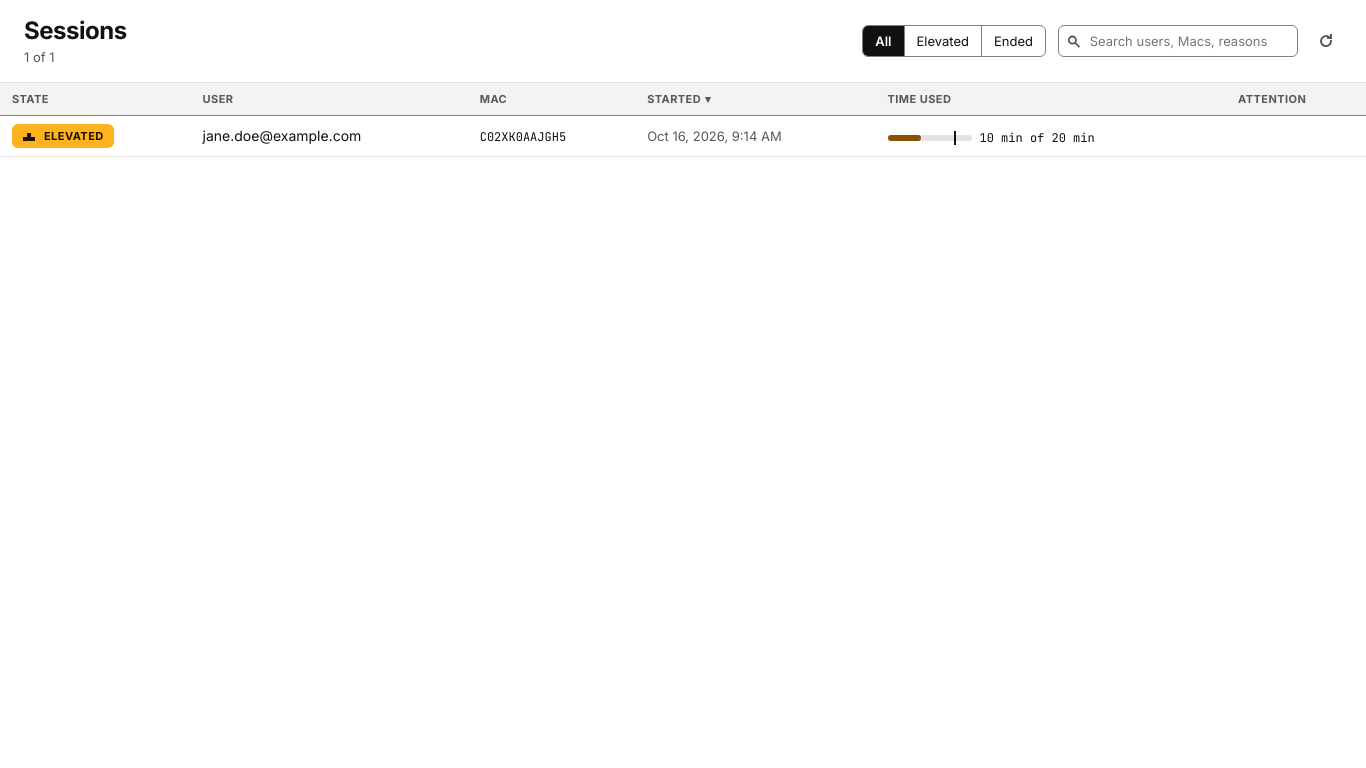
Test: Sessions › reports what the Mac did with the revoke ({"status":"completed","revoked":["jdoe"]})
Click the text "jane.doe@example.com" at (282,136), box 202,127 -> 361,144
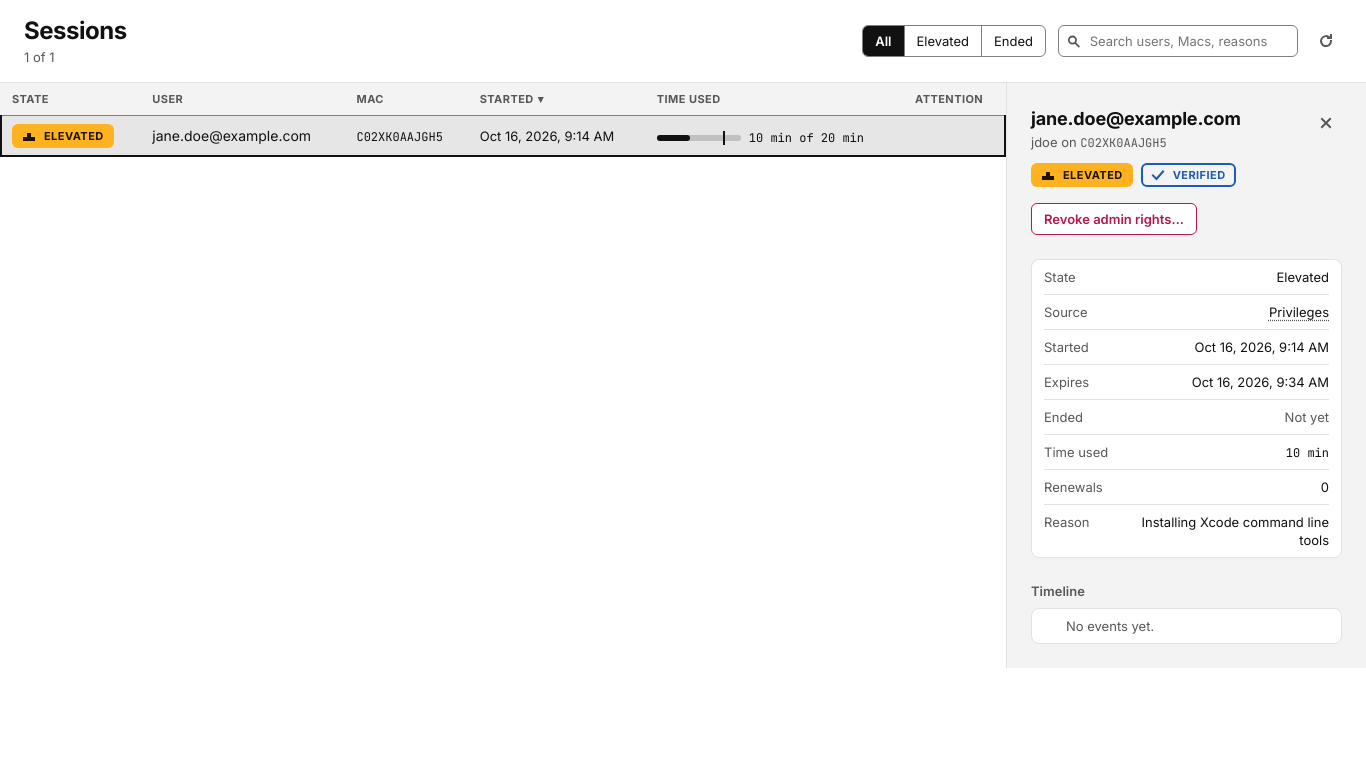
Click the button "Revoke admin rights…" at (1114,219), box 1031,203 -> 1197,235
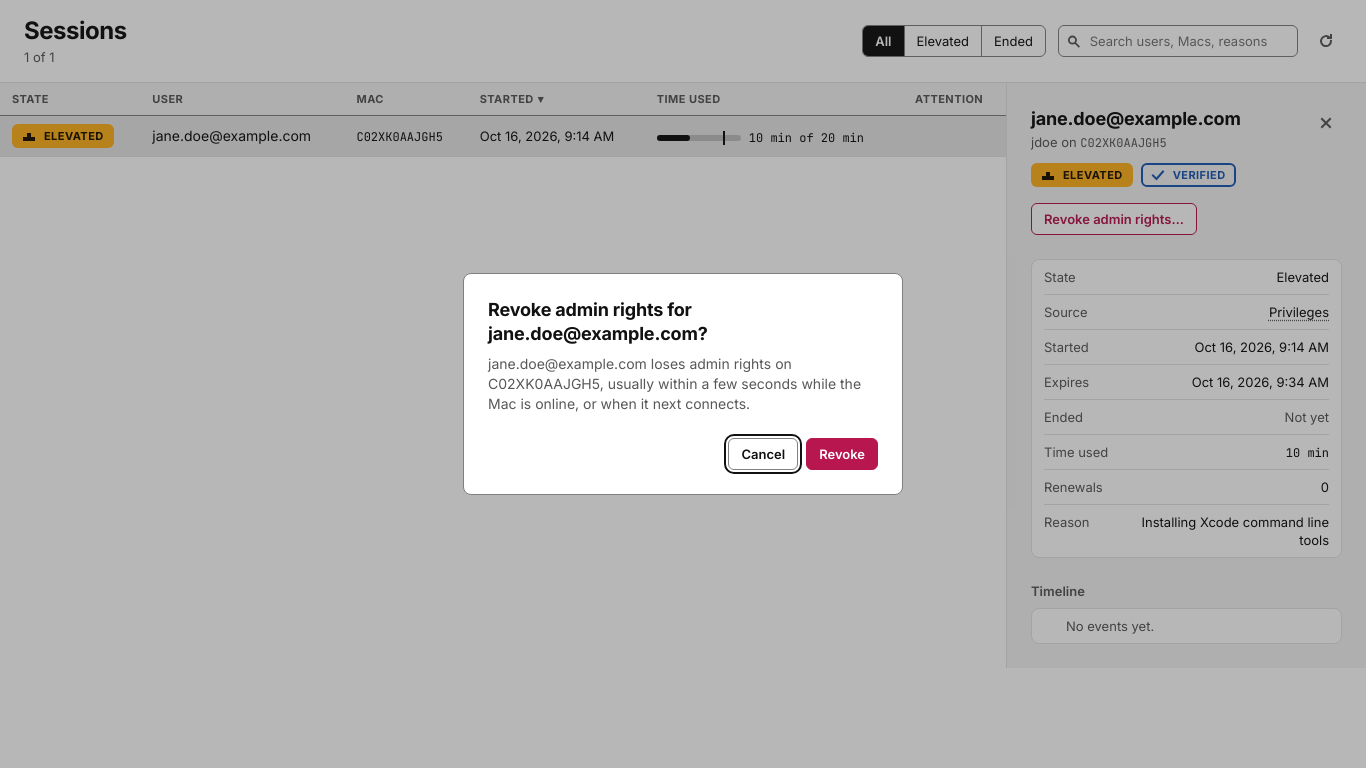
Click the button "Revoke" at (842,454), box 806,438 -> 878,470
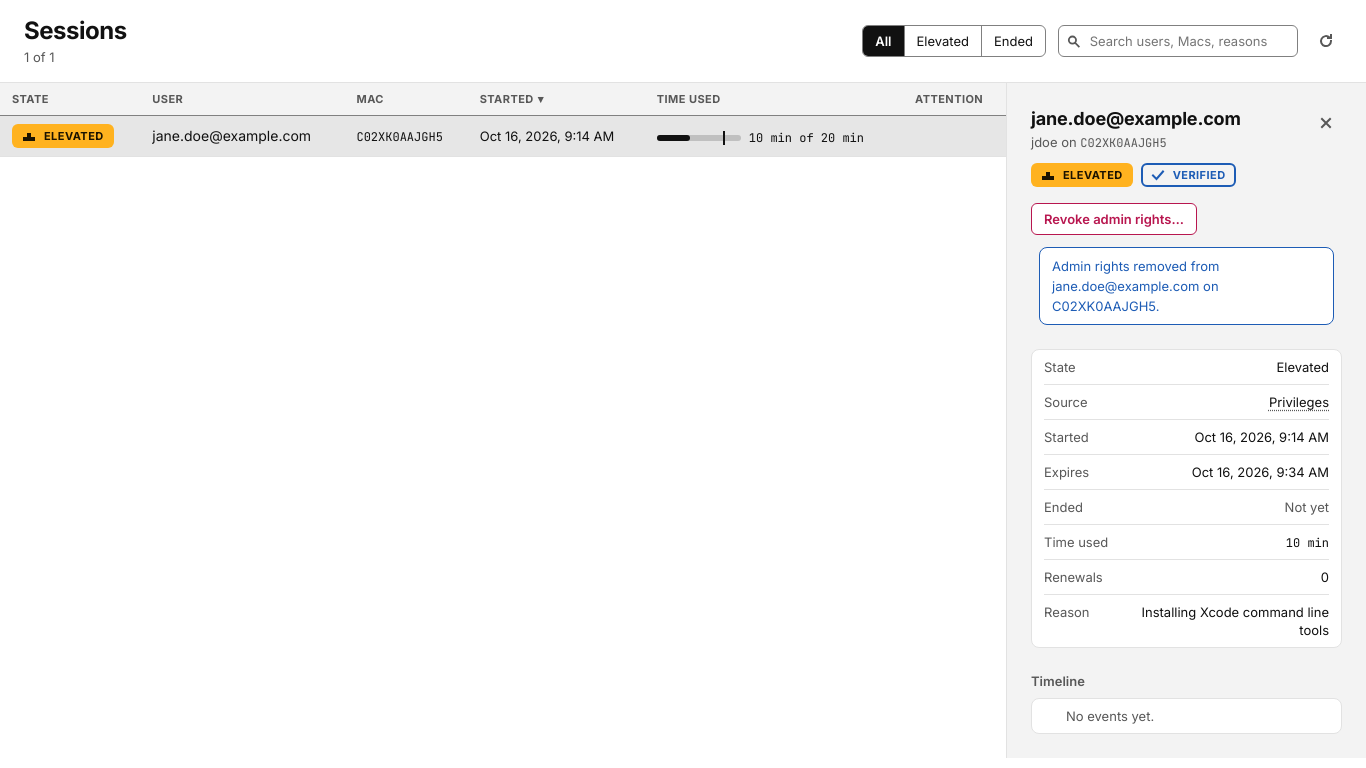
Expected: the message reads "Admin rights removed from jane.doe@example.com on C02XK0AAJGH5.", 1052,258 -> 1219,314
